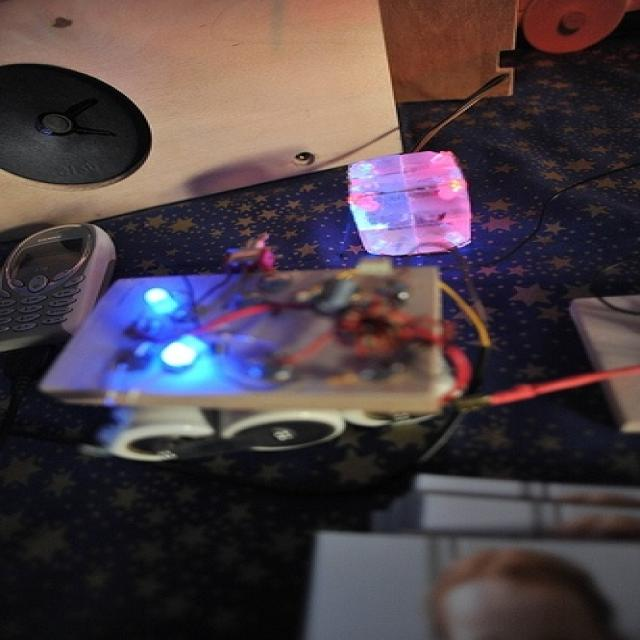E-waste: (144, 255, 512, 462), (5, 211, 130, 349)
